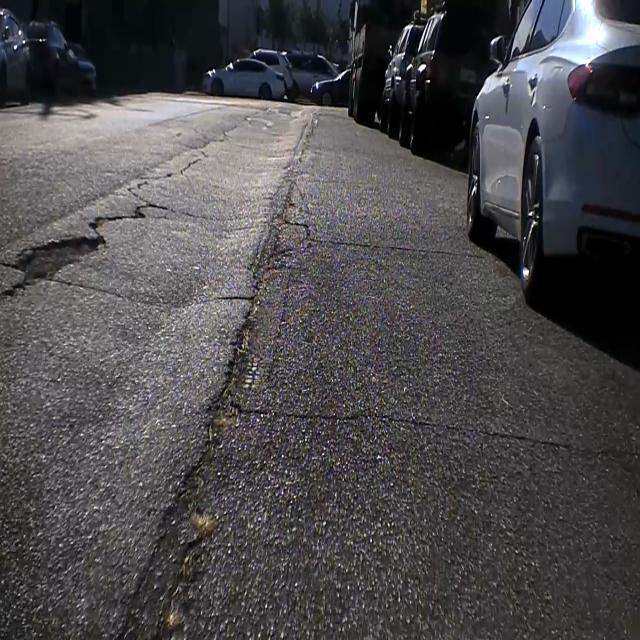Buraco: (0, 201, 172, 308)
